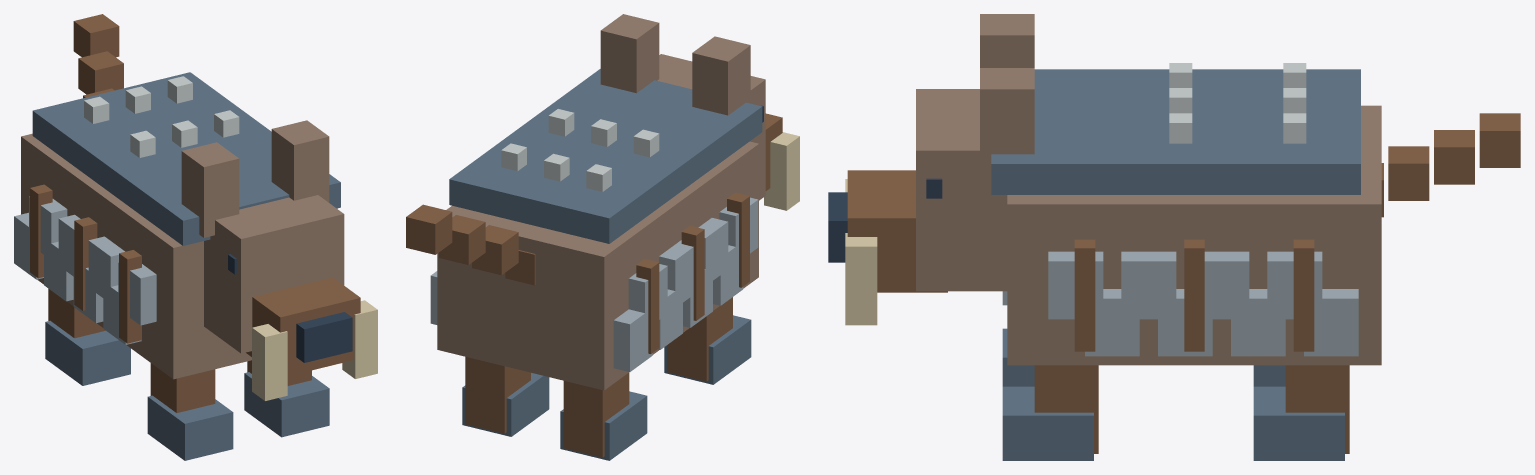
Rendered from arena-q-boar.glb.
The picture shows the model from 3 angles, left to right: view 1: azimuth 30°, elevation 25°; view 2: azimuth 150°, elevation 25°; view 3: azimuth 270°, elevation 25°; orthographic projection. The views are drawn at different scales.
Visible parts, largest first — view 1: Armor, Hide, Head, Feet, Ears, Muzzle, Tusks, Straps, Legs, Rivets, Tail; view 2: Armor, Hide, Legs, Ears, Feet, Tail, Straps, Rivets, Tusks, Head, Muzzle; view 3: Armor, Hide, Head, Feet, Muzzle, Ears, Straps, Tail, Legs, Rivets, Tusks.
Boxes of the visible parts, x1,y1,x2,y2 form: Armor: [14, 72, 340, 344]; Hide: [21, 133, 337, 379]; Head: [204, 195, 344, 353]; Feet: [45, 320, 329, 460]; Ears: [181, 120, 329, 237]; Muzzle: [246, 277, 360, 375]; Tusks: [252, 300, 377, 400]; Straps: [30, 184, 141, 343]; Legs: [48, 288, 311, 412]; Rivets: [84, 76, 239, 157]; Tail: [73, 14, 123, 98]; Armor: [430, 69, 762, 371]; Hide: [437, 141, 758, 390]; Legs: [465, 297, 732, 457]; Ears: [600, 14, 750, 115]; Feet: [462, 315, 751, 460]; Tail: [406, 204, 535, 285]; Straps: [636, 192, 749, 353]; Rivets: [501, 109, 659, 191]; Tusks: [764, 132, 799, 210]; Head: [657, 54, 765, 200]; Muzzle: [765, 113, 782, 190]; Armor: [991, 69, 1360, 356]; Hide: [1007, 105, 1381, 365]; Head: [916, 89, 1007, 291]; Feet: [1002, 328, 1344, 460]; Muzzle: [828, 170, 947, 292]; Ears: [980, 14, 1034, 175]; Straps: [1074, 239, 1314, 351]; Tail: [1381, 113, 1520, 217]; Legs: [1034, 365, 1349, 453]; Rivets: [1169, 63, 1306, 143]; Tusks: [845, 179, 877, 325].
Bounding box in the file's own units: 0.8828 × 1.25 × 2.14.
